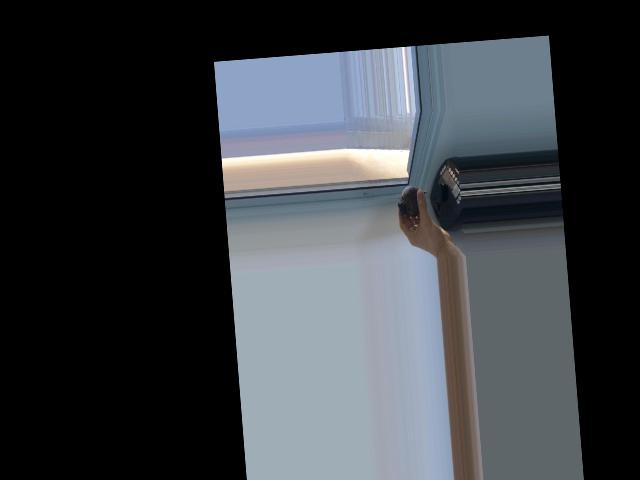beet: (396, 184, 429, 220)
